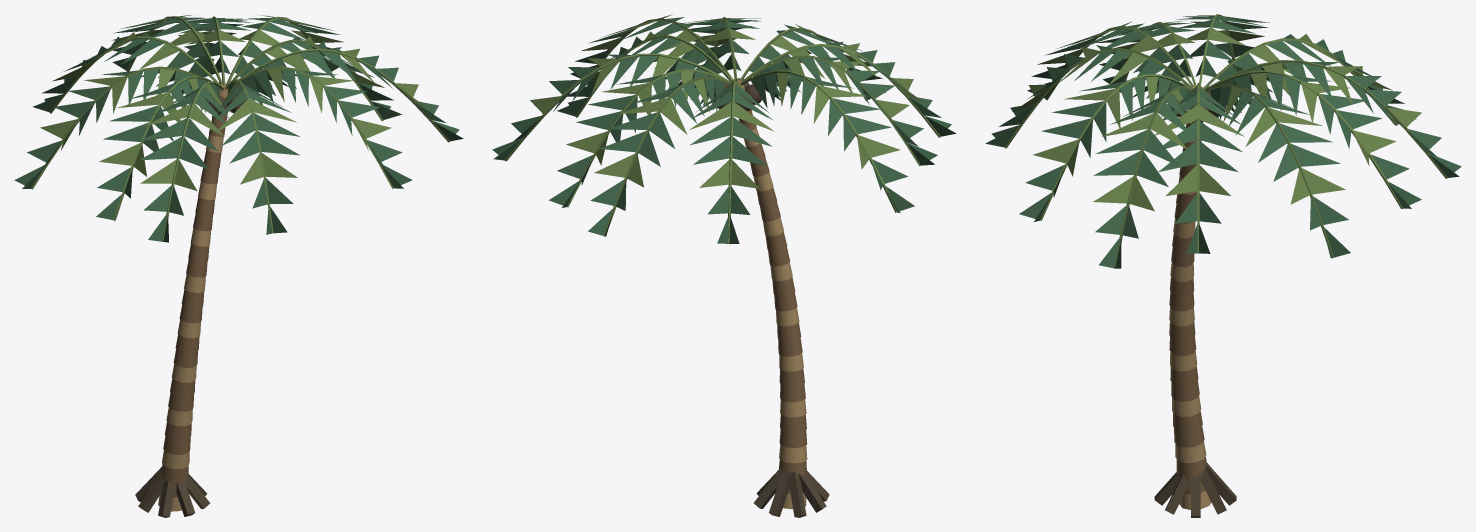
File: SM_CoastalPalm_01.glb
The picture shows the model from 3 angles, left to right: view 1: azimuth 30°, elevation 25°; view 2: azimuth 150°, elevation 25°; view 3: azimuth 270°, elevation 25°; orthographic projection. The views are drawn at different scales.
Parts seen in each view (by area): view 1: SM_CoastalPalm_01_M_DH_leaf, SM_CoastalPalm_01_M_DH_leafLight, SM_CoastalPalm_01_M_DH_wood, SM_CoastalPalm_01_M_DH_woodLight, SM_CoastalPalm_01_M_DH_woodDark; view 2: SM_CoastalPalm_01_M_DH_leaf, SM_CoastalPalm_01_M_DH_leafLight, SM_CoastalPalm_01_M_DH_wood, SM_CoastalPalm_01_M_DH_woodLight, SM_CoastalPalm_01_M_DH_woodDark; view 3: SM_CoastalPalm_01_M_DH_leaf, SM_CoastalPalm_01_M_DH_leafLight, SM_CoastalPalm_01_M_DH_wood, SM_CoastalPalm_01_M_DH_woodLight, SM_CoastalPalm_01_M_DH_woodDark.
Part boxes in pixels (box(x1,y1,x2,y2)): SM_CoastalPalm_01_M_DH_leaf: box(14, 15, 463, 242); SM_CoastalPalm_01_M_DH_leafLight: box(31, 14, 449, 241); SM_CoastalPalm_01_M_DH_wood: box(160, 112, 227, 497); SM_CoastalPalm_01_M_DH_woodLight: box(158, 85, 228, 511); SM_CoastalPalm_01_M_DH_woodDark: box(135, 82, 247, 517); SM_CoastalPalm_01_M_DH_leaf: box(492, 17, 956, 243); SM_CoastalPalm_01_M_DH_leafLight: box(505, 14, 940, 243); SM_CoastalPalm_01_M_DH_wood: box(738, 109, 807, 493); SM_CoastalPalm_01_M_DH_woodLight: box(735, 79, 807, 509); SM_CoastalPalm_01_M_DH_woodDark: box(714, 78, 829, 517); SM_CoastalPalm_01_M_DH_leaf: box(985, 15, 1461, 268); SM_CoastalPalm_01_M_DH_leafLight: box(1004, 14, 1447, 268); SM_CoastalPalm_01_M_DH_wood: box(1169, 121, 1207, 494); SM_CoastalPalm_01_M_DH_woodLight: box(1169, 86, 1211, 509); SM_CoastalPalm_01_M_DH_woodDark: box(1154, 86, 1236, 517).
Bounding box in the file's own units: 5.67 × 6.07 × 5.5.
